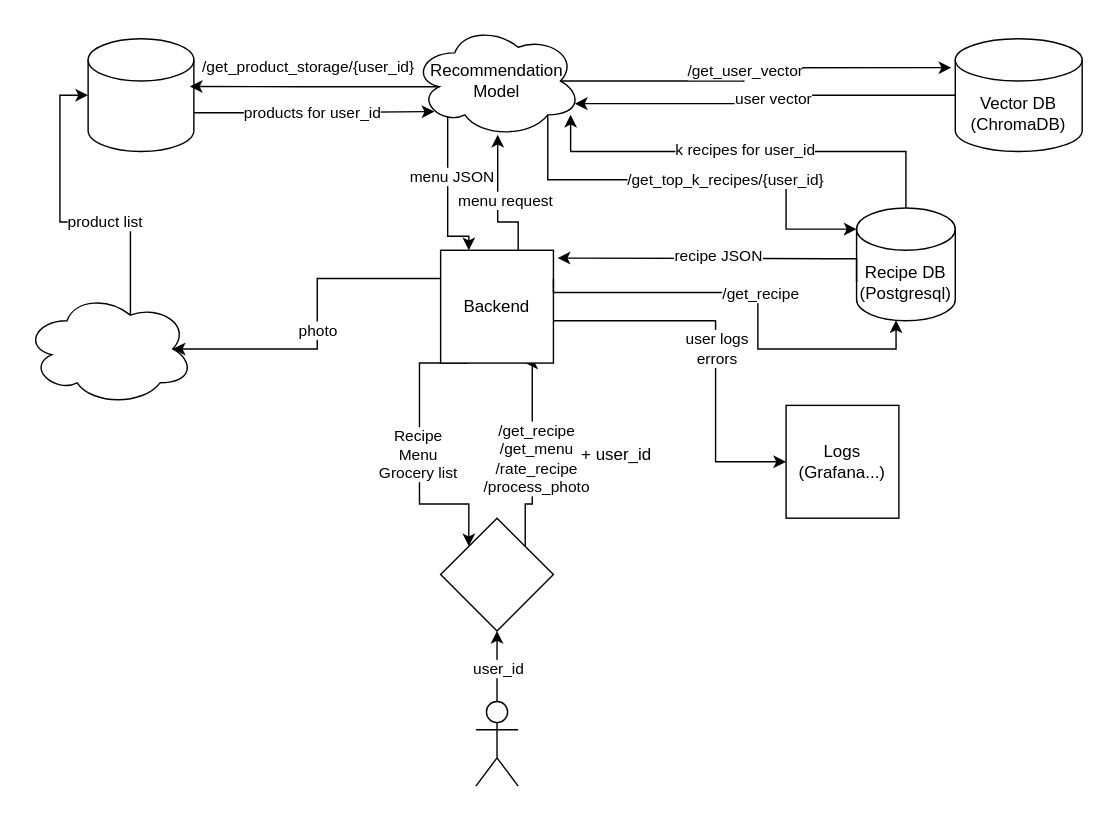
Image size: 1107x840. Some labels were removed from this diagram. The shapes that lost their labels are listed below. From the top down, each one's centre as x and y in pixels, then its label:
At (140,94): "Users DB (Postgresql)".
At (108,348): "CV Model".
At (496,574): "mobile app".
